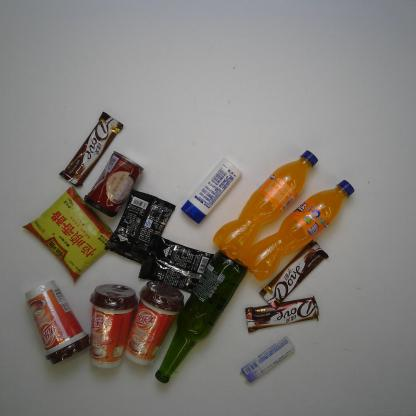Alcohol: (153, 249, 249, 384)
Candy: (241, 335, 297, 384)
Canned Food: (82, 149, 144, 219)
Chocolate: (58, 110, 126, 188), (257, 239, 329, 311), (243, 295, 320, 334)
Drink: (240, 179, 356, 282), (212, 149, 319, 260)
Instant Drink: (24, 279, 90, 365), (123, 280, 186, 367), (104, 188, 176, 264), (137, 232, 216, 295), (88, 283, 139, 370)
Personal Hygiene: (180, 157, 243, 225)
Seasoner: (21, 184, 116, 285)
